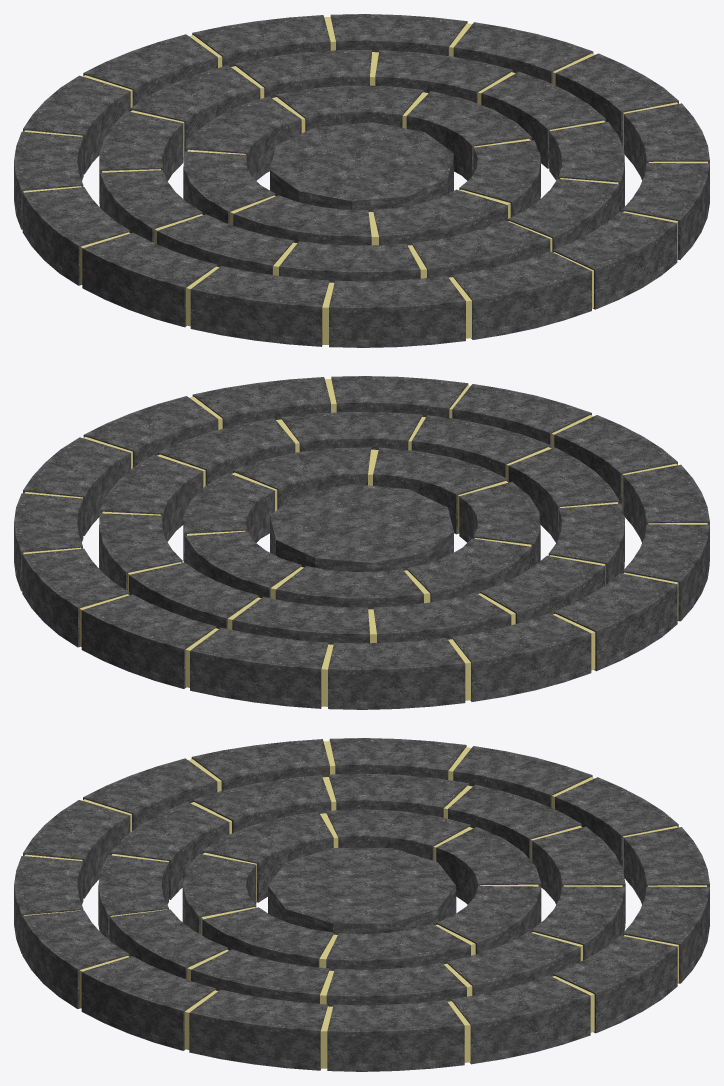
Rendered from mapPoint.fbx.
3 renders of one model, top to bottom at view 1: azimuth 30°, elevation 25°; view 2: azimuth 150°, elevation 25°; view 3: azimuth 270°, elevation 25°, orthographic.
Visible parts, largest first — view 1: Cylinder; view 2: Cylinder; view 3: Cylinder.
Part boxes in pixels (left/top/right/bottom): Cylinder: left=14, top=14, right=709, bottom=347; Cylinder: left=14, top=376, right=709, bottom=709; Cylinder: left=14, top=738, right=709, bottom=1071.
Bounding box in the file's own units: 2.4 × 0.1519 × 2.4.
Materials: 2 (1 with a texture image).
